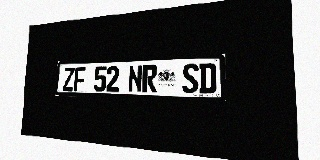2: (106, 66, 119, 92)
5: (94, 66, 107, 92)
D: (199, 63, 217, 94)
F: (74, 67, 86, 91)
N: (128, 65, 142, 92)
R: (142, 65, 157, 93)
S: (182, 63, 198, 93)
Z: (63, 67, 74, 91)
